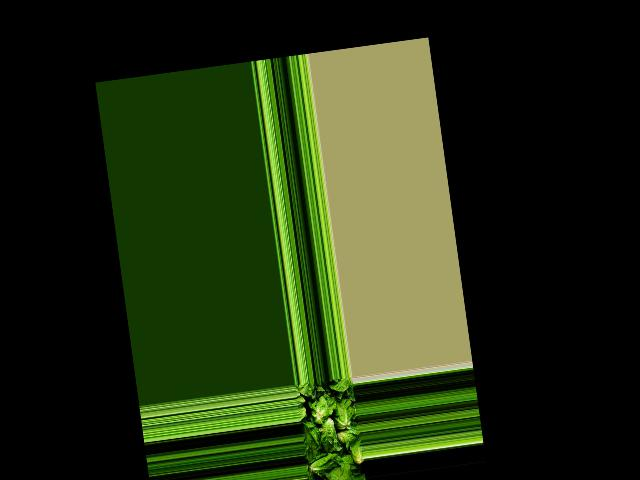lettuce: (346, 433, 364, 469)
